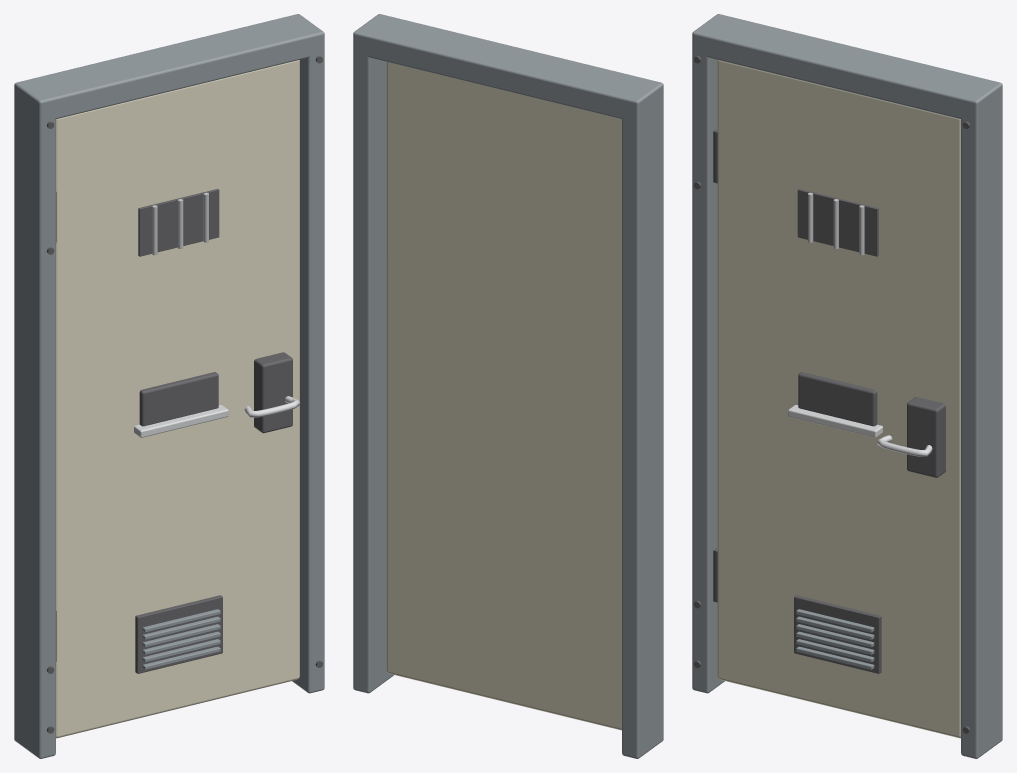
File: prison-complex-builder-solid-cell-door-5d978e5f__25589.glb
The picture shows the model from 3 angles, left to right: view 1: azimuth 30°, elevation 25°; view 2: azimuth 150°, elevation 25°; view 3: azimuth 330°, elevation 25°; orthographic projection.
Visible parts, largest first — view 1: cell-door/paintCream, solid-cell-door, cell-door/steelDark, cell-door/steelPainted, cell-door/stainless, cell-door/steelGalv; view 2: cell-door/paintCream, solid-cell-door; view 3: cell-door/paintCream, solid-cell-door, cell-door/steelDark, cell-door/steelPainted, cell-door/stainless, cell-door/steelGalv.
Part boxes in pixels (x1=…): cell-door/paintCream: x1=56, y1=60, x2=299, y2=738; solid-cell-door: x1=14, y1=14, x2=324, y2=758; cell-door/steelDark: x1=135, y1=189, x2=292, y2=673; cell-door/steelPainted: x1=142, y1=609, x2=220, y2=669; cell-door/stainless: x1=134, y1=396, x2=300, y2=437; cell-door/steelGalv: x1=152, y1=192, x2=208, y2=255; cell-door/paintCream: x1=386, y1=62, x2=621, y2=730; solid-cell-door: x1=353, y1=14, x2=663, y2=758; cell-door/paintCream: x1=717, y1=60, x2=960, y2=738; solid-cell-door: x1=692, y1=14, x2=1002, y2=758; cell-door/steelDark: x1=794, y1=189, x2=945, y2=673; cell-door/steelPainted: x1=796, y1=609, x2=874, y2=669; cell-door/stainless: x1=788, y1=405, x2=932, y2=456; cell-door/steelGalv: x1=808, y1=192, x2=864, y2=255.
Bounding box in the file's own units: 0.9999 × 2.2 × 0.2516.
